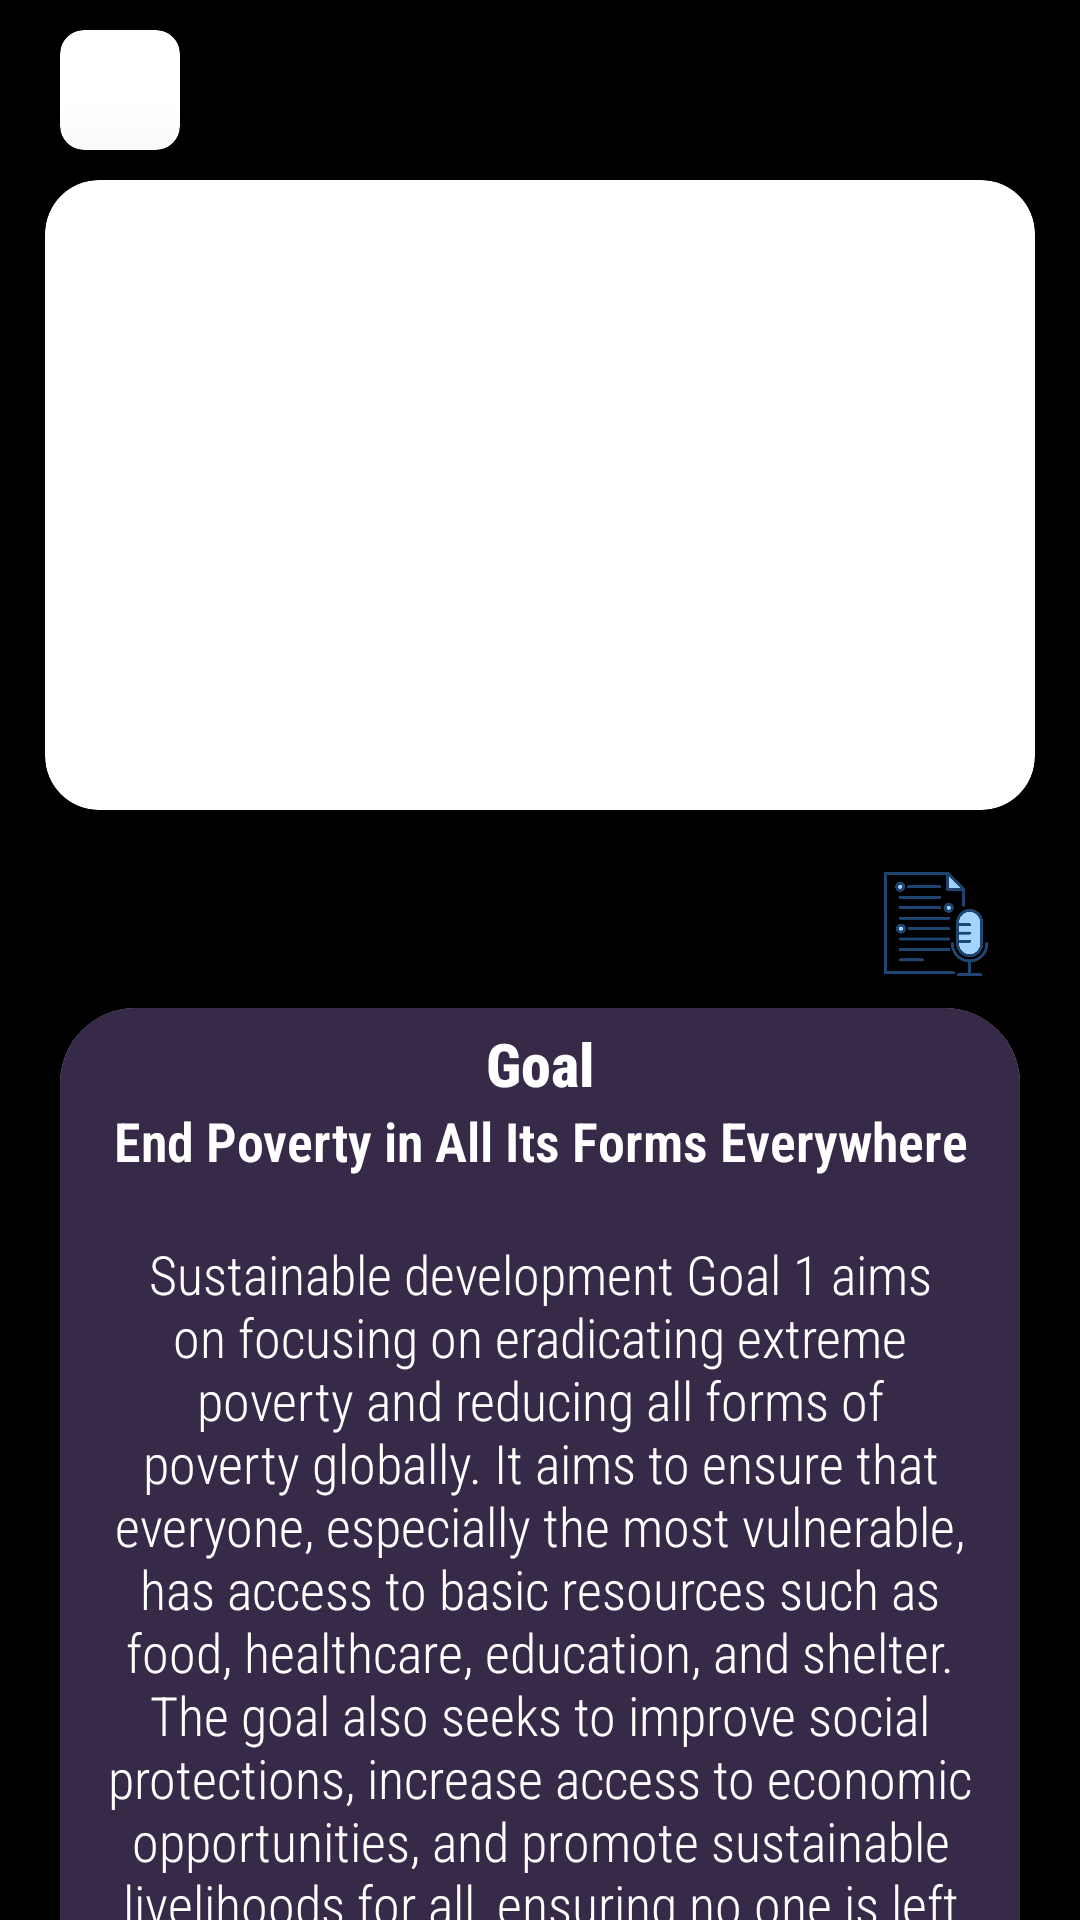

Icon click points for this 1080px x 1920px phone screenshot, format (x,y):
audionarration: (936,924)
